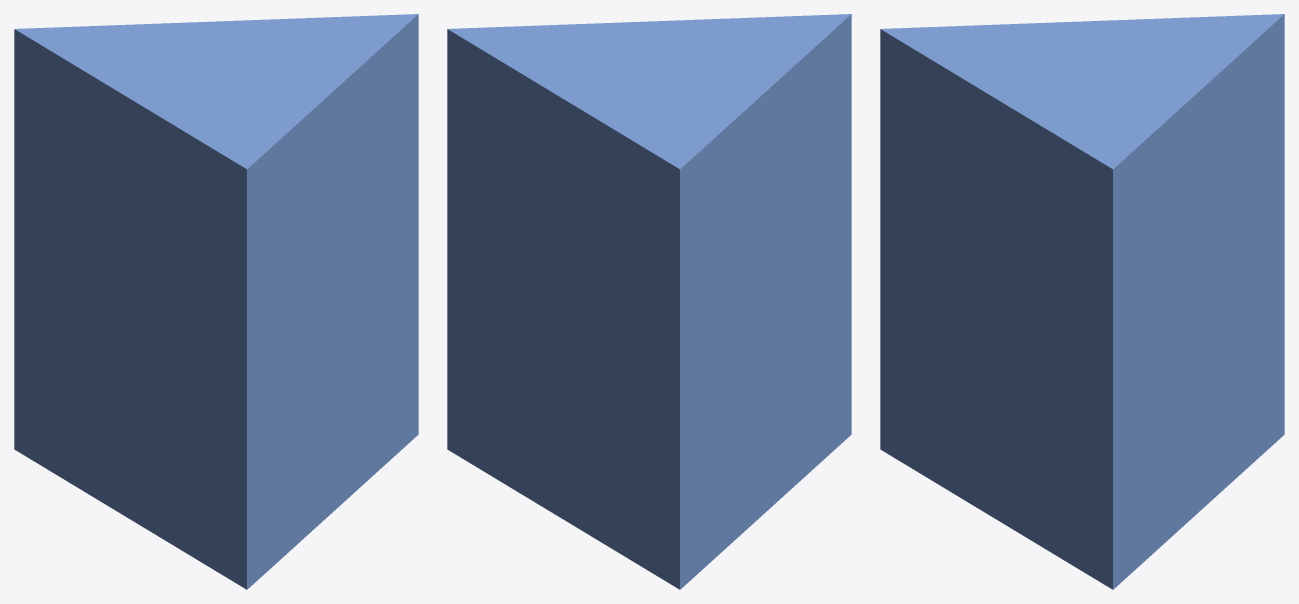
The model's file is Btn_BlueLeft.fbx.
3 renders of one model, left to right at view 1: azimuth 30°, elevation 25°; view 2: azimuth 150°, elevation 25°; view 3: azimuth 270°, elevation 25°, orthographic.
Parts seen in each view (by area): view 1: Btn_BlueLeft; view 2: Btn_BlueLeft; view 3: Btn_BlueLeft.
Boxes of the visible parts, bbox=[...] form: Btn_BlueLeft: bbox=[14, 14, 418, 589]; Btn_BlueLeft: bbox=[447, 14, 851, 589]; Btn_BlueLeft: bbox=[880, 14, 1284, 589].
Size of the model in its own units: 15.7 by 19.8 by 17.25.
